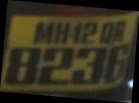character: (37, 45, 74, 85), (4, 45, 40, 85), (70, 46, 105, 84), (32, 21, 54, 44), (81, 20, 97, 44), (53, 21, 69, 43)
